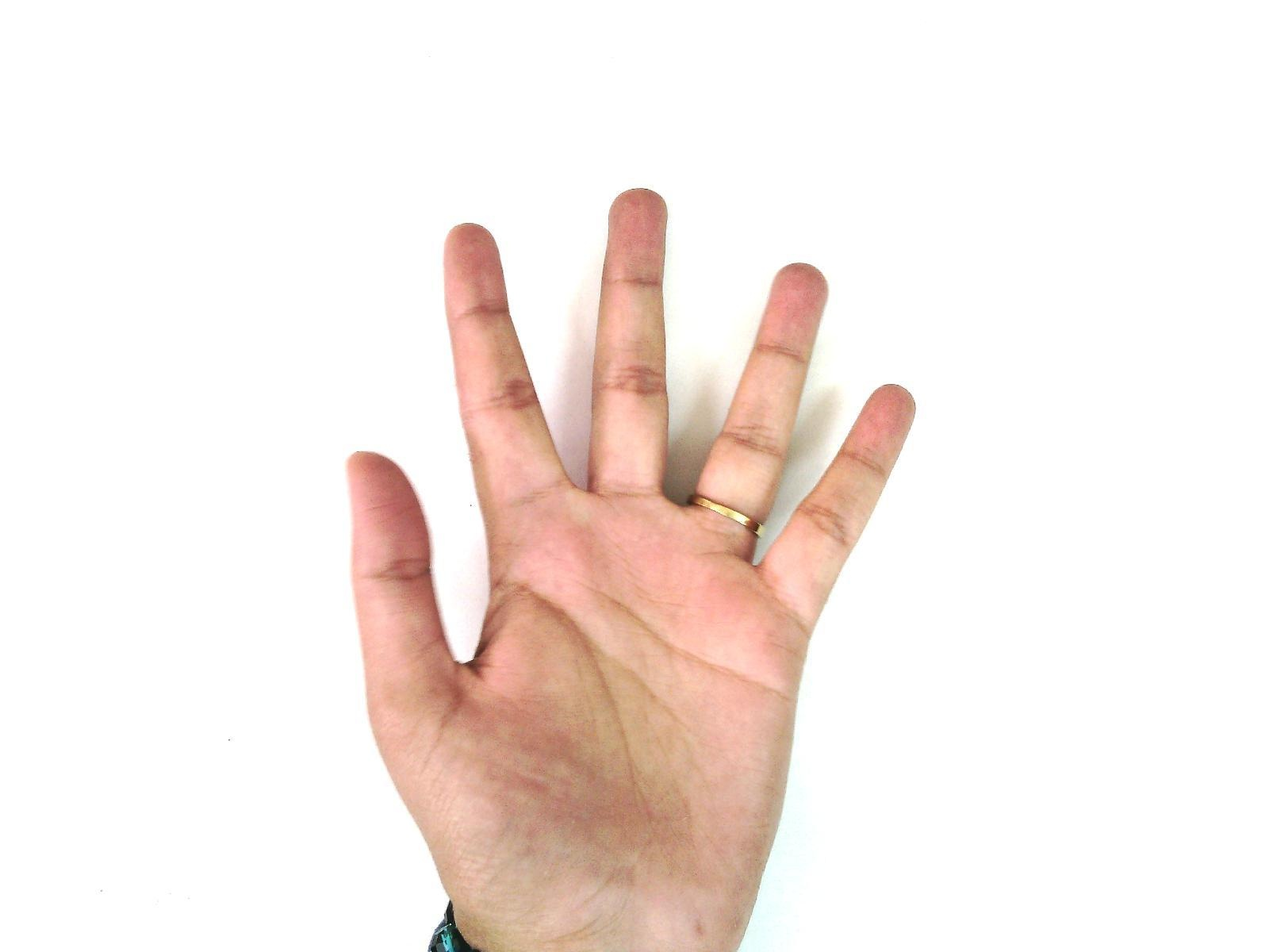open_palm: (343, 186, 918, 951)
